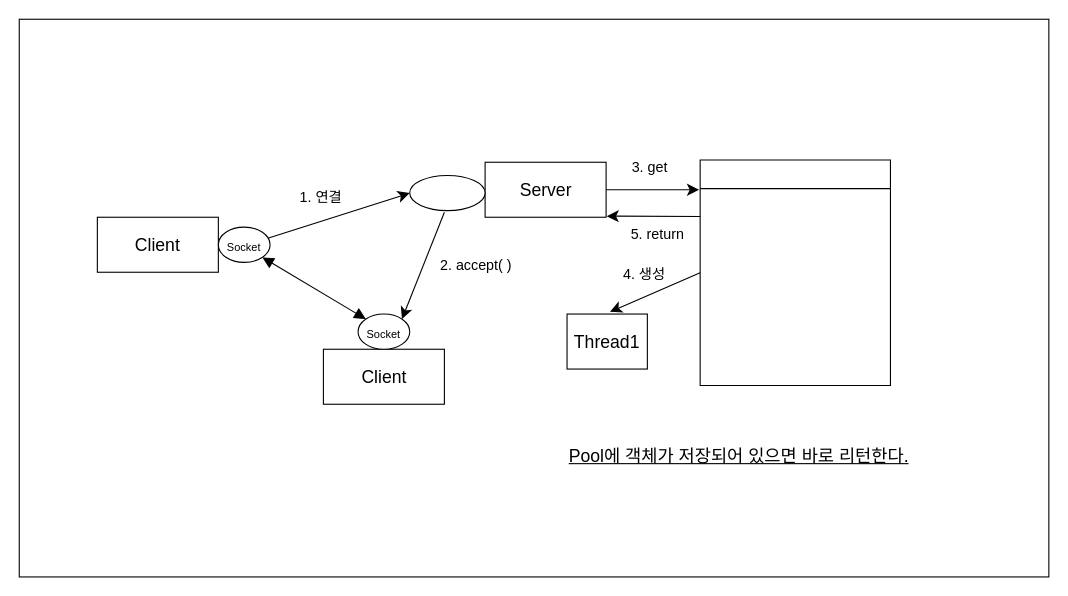
Image size: 1068x596. Some labels were removed from this diagram. Here are the shapes that lost their labels. From the top down, the box of each, then its label:
(409, 174, 485, 211): ServerSocket
(699, 159, 890, 386): ThreadPool
